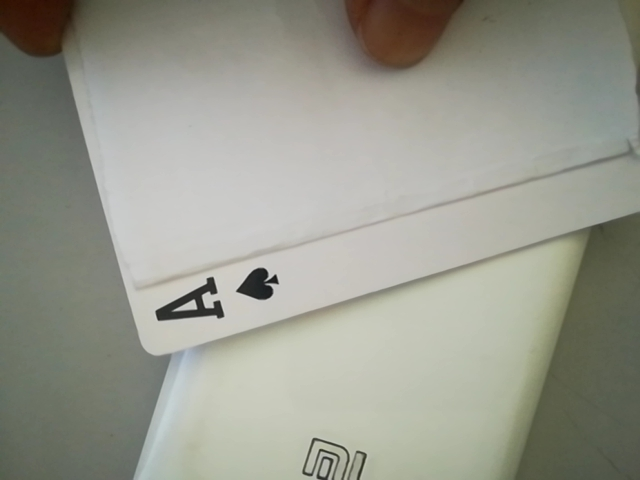ht a: (137, 251, 299, 338)
